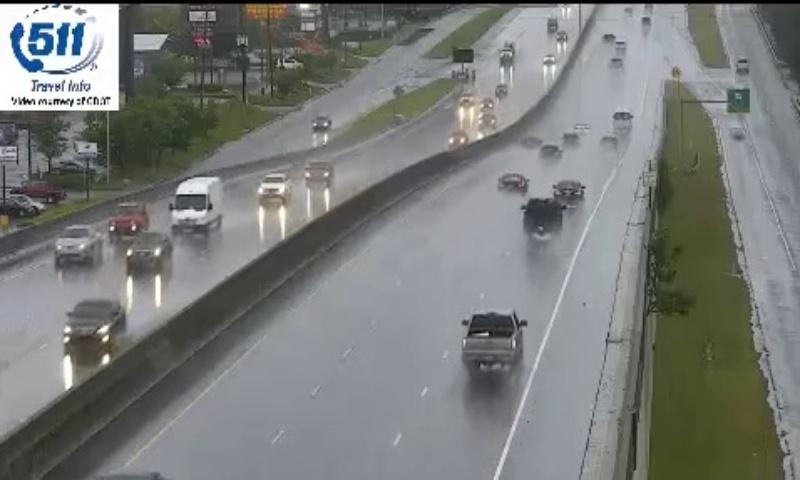car: (461, 310, 522, 365), (522, 198, 562, 234), (553, 179, 584, 205), (497, 173, 527, 194)
